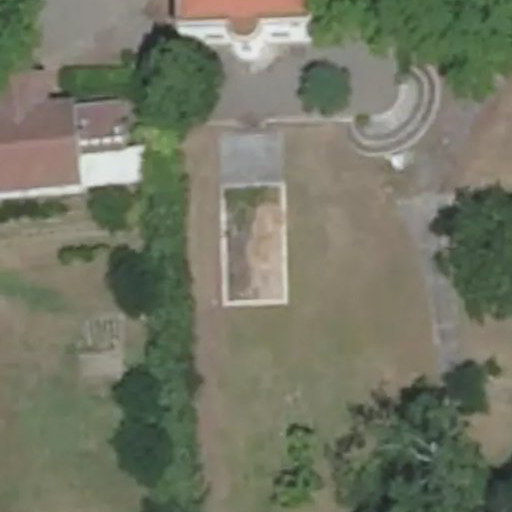pool: (221, 182, 290, 301)
